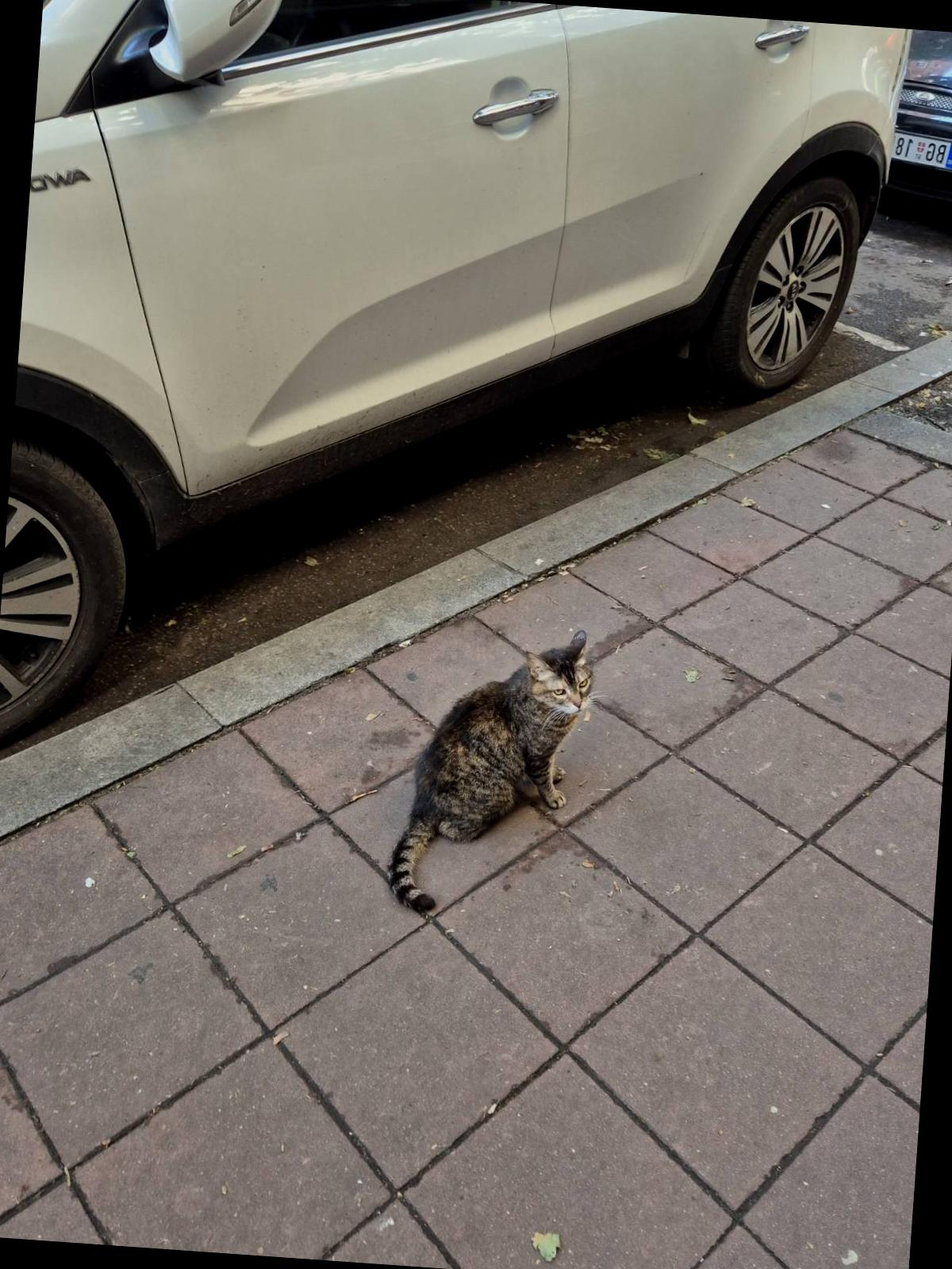macka: (385, 617, 595, 924)
